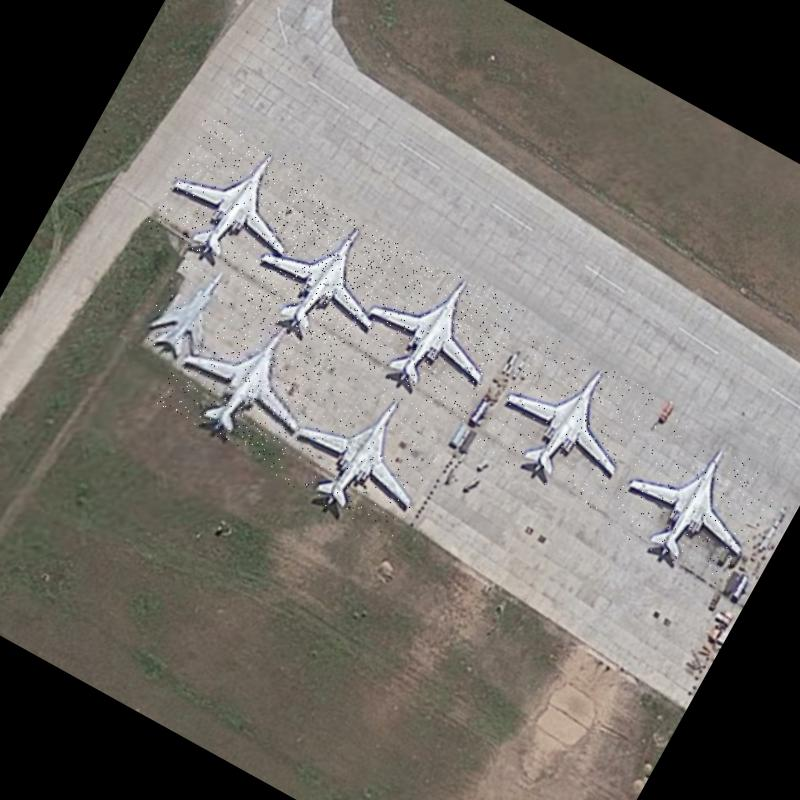A12: (138, 247, 244, 368)
A6: (270, 360, 457, 544), (154, 286, 340, 470), (474, 330, 660, 512), (600, 411, 786, 592), (342, 242, 525, 421), (232, 185, 414, 364), (144, 111, 324, 290)
